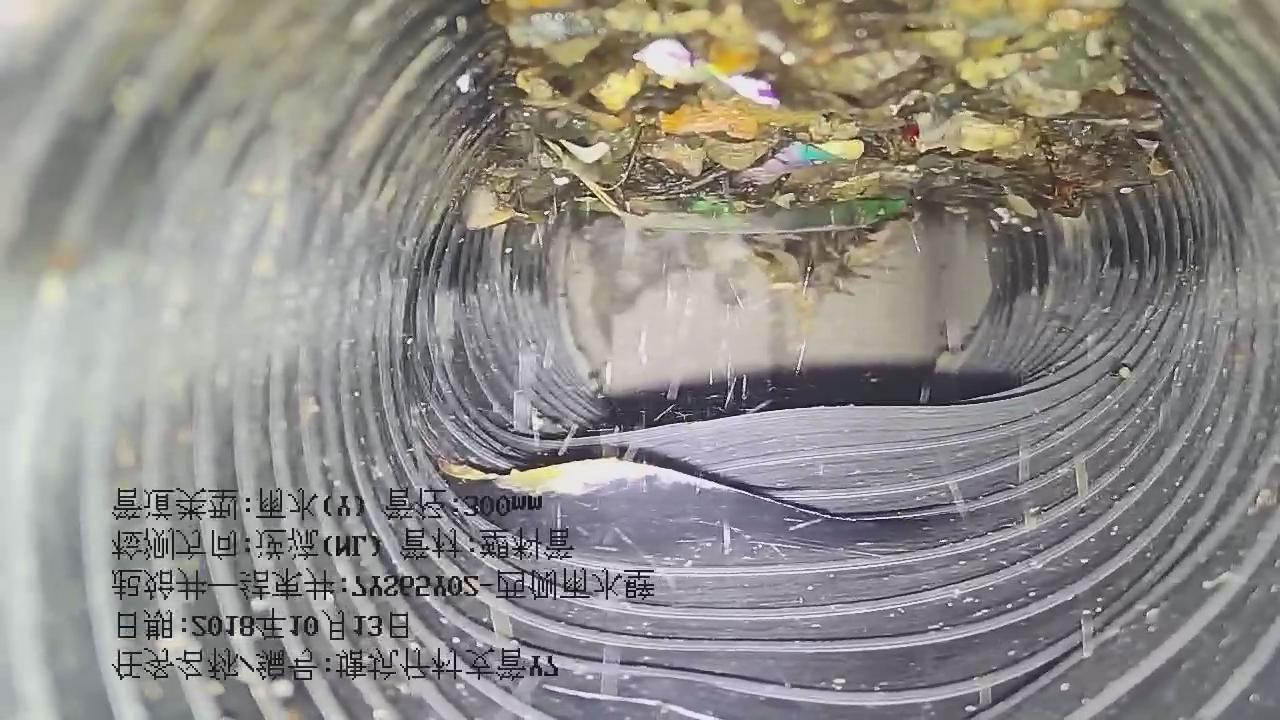BX: (413, 328, 1171, 575)
CJ: (463, 1, 1170, 313)
